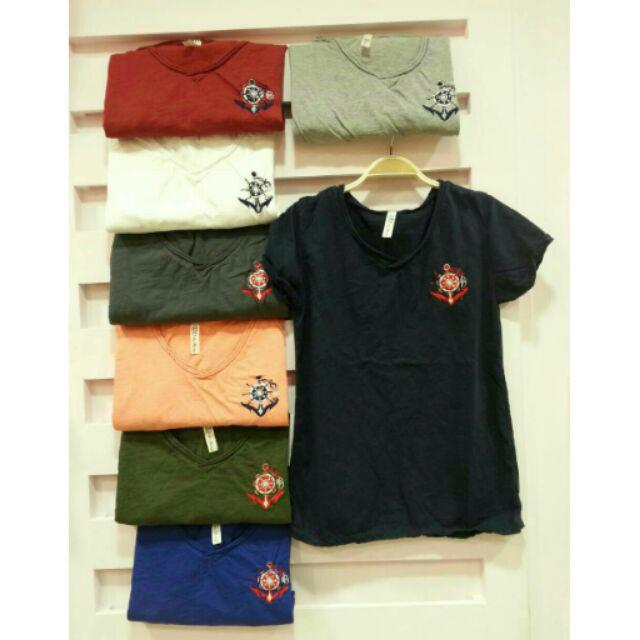Tops: (266, 185, 547, 544)
